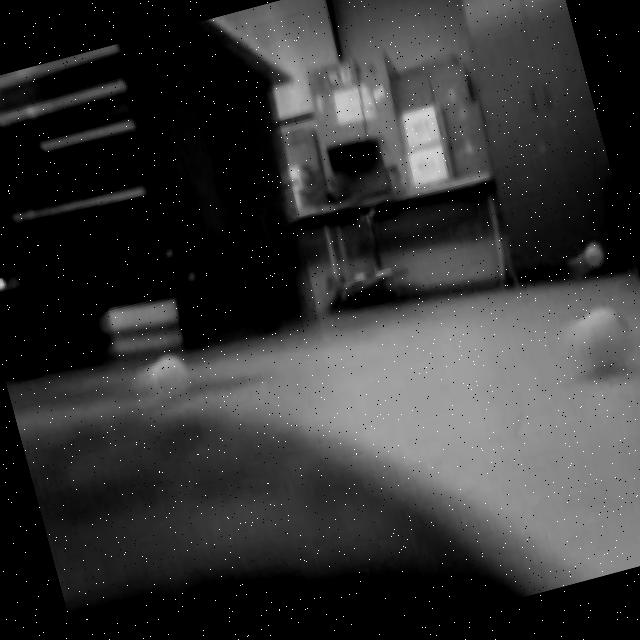ping-pong-ball: (563, 297, 640, 380), (132, 340, 202, 420), (570, 230, 612, 280)
